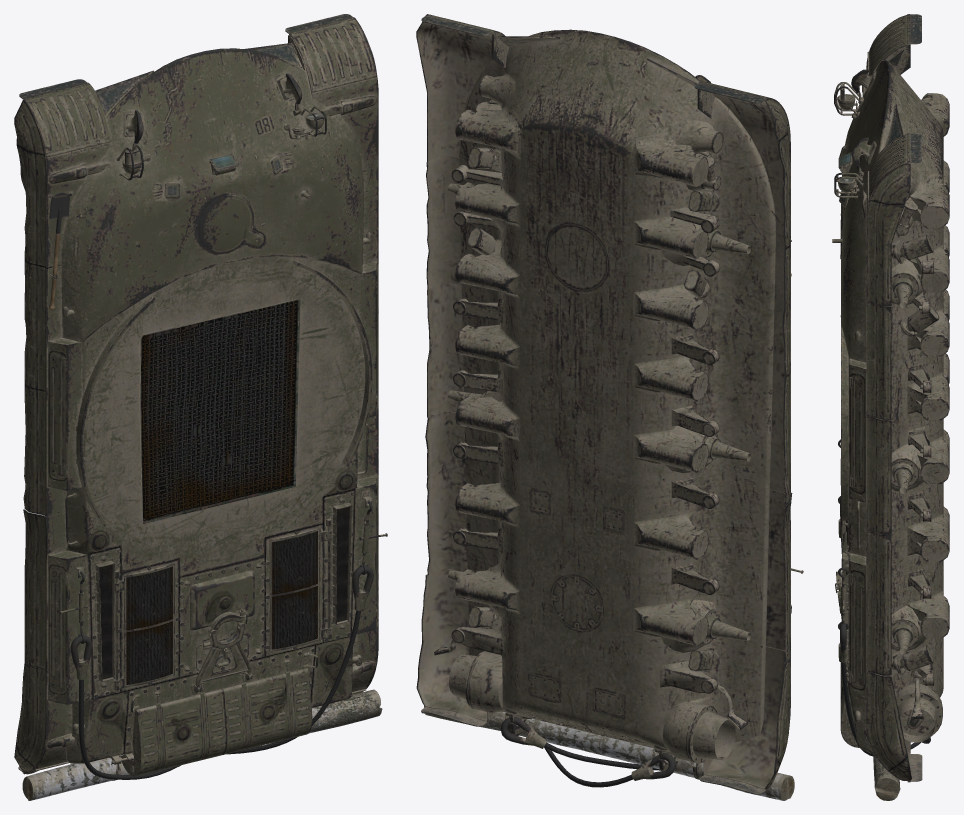
The model's file is Hull.glb.
3 views of the same model, side by side, from view 1: azimuth 30°, elevation 25°; view 2: azimuth 150°, elevation 25°; view 3: azimuth 270°, elevation 25° (orthographic). The views are drawn at different scales.
Parts seen in each view (by area): view 1: set_0_group_0; view 2: set_0_group_0; view 3: set_0_group_0.
Part boxes in pixels (box(x1,y1,x2,y2)): set_0_group_0: box(14, 14, 387, 800); set_0_group_0: box(416, 14, 803, 800); set_0_group_0: box(832, 14, 949, 800).
Bounding box in the file's own units: 3.58 × 6.99 × 1.13.
1 material, 1 textured.
